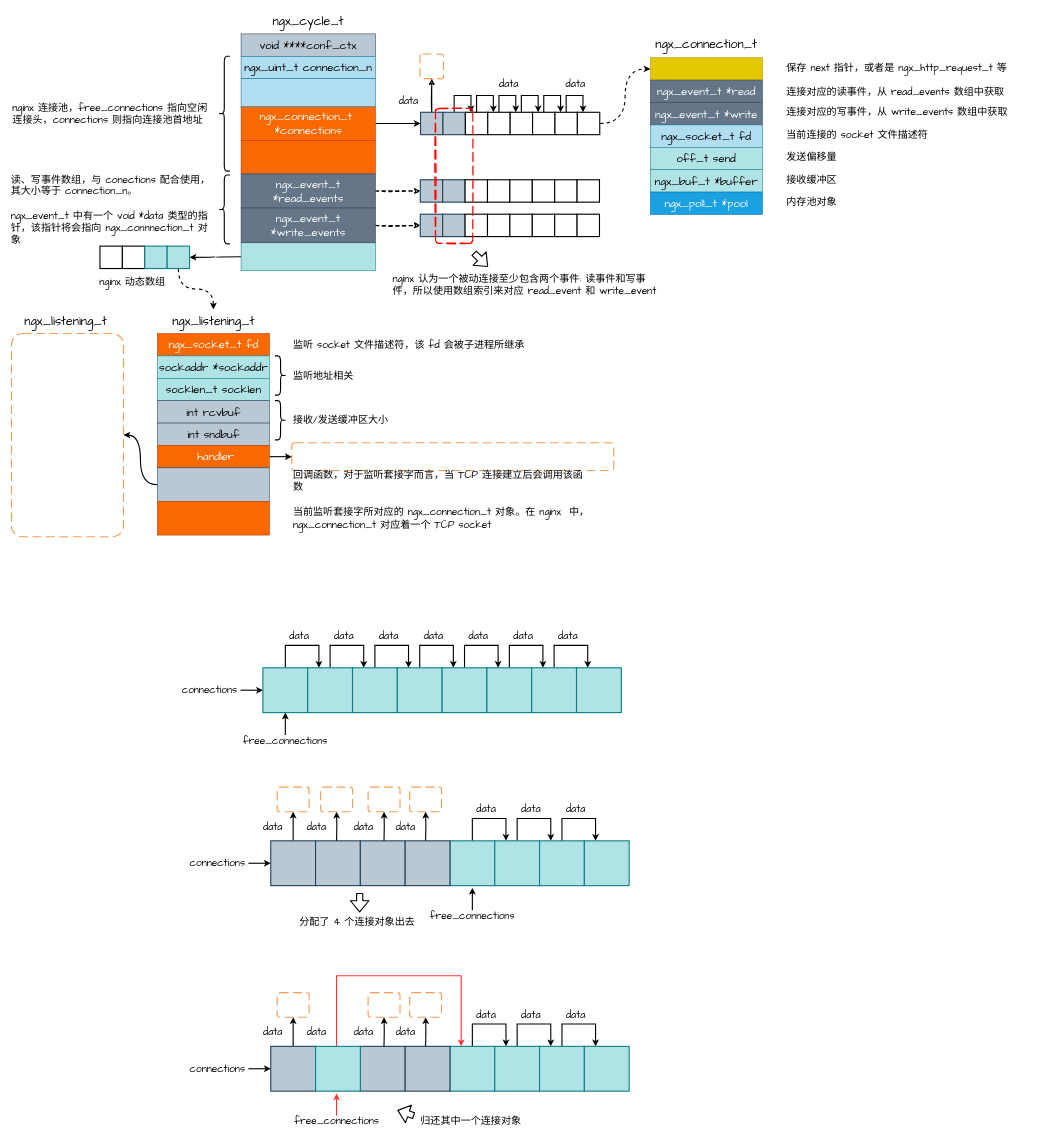
Some shapes in this 1052 by 1145 pixel diagram are drawn without their labels. The shapes that lost their labels are listed below. From the top down, each one's centre as x and y in pixels, then its label:
At point (706, 68): "void *data".
At point (308, 92): "ngx_uint_t free_connection_n".
At point (308, 157): "ngx_connection_t *free_connections".
At point (308, 256): "ngx_array_t listening".
At point (452, 456): "typedef void (*ngx_connection_handler_pt)(ngx_connection_t *c);".
At point (213, 484): "ngx_listening_t *previous".
At point (213, 518): "ngx_connection_t *connection".
